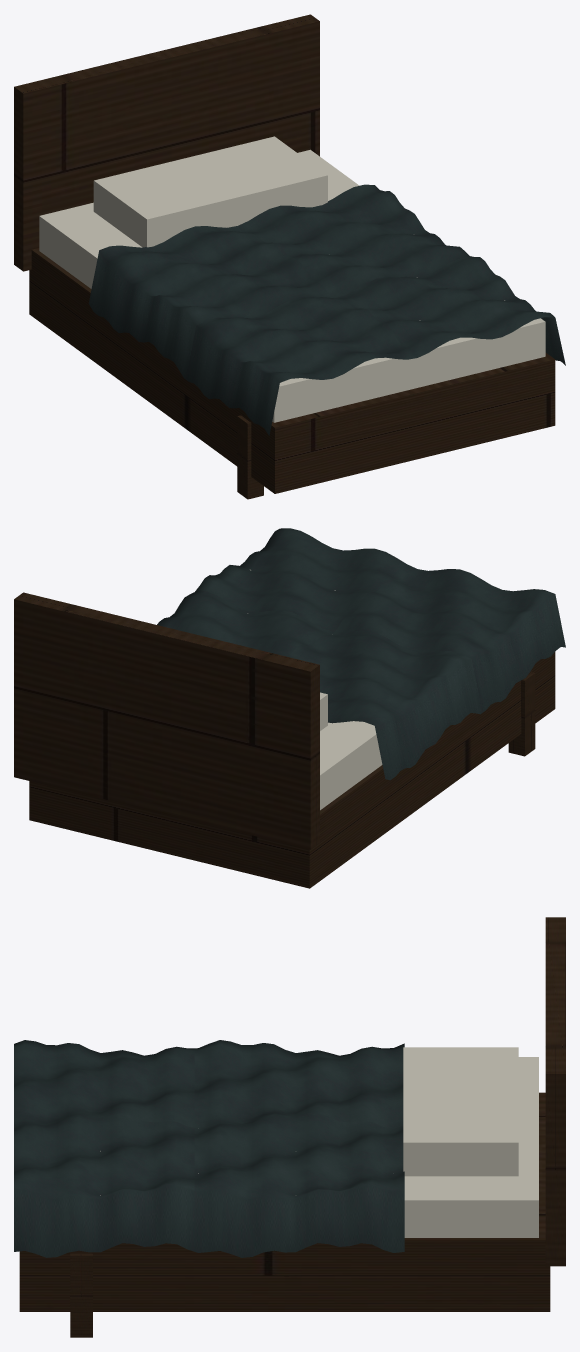
The model's file is bed.glb.
3 renders of one model, top to bottom at view 1: azimuth 30°, elevation 25°; view 2: azimuth 150°, elevation 25°; view 3: azimuth 270°, elevation 25°, orthographic. The views are drawn at different scales.
Parts seen in each view (by area): view 1: Rumpled blanket, Headboard, Bed frame, Pillow, Mattress, Bed leg; view 2: Headboard, Rumpled blanket, Bed frame, Mattress, Bed leg; view 3: Rumpled blanket, Bed frame, Pillow, Mattress, Headboard, Bed leg.001.
Part boxes in pixels (x1,y1,x2,y2): Rumpled blanket: (88,184,565,435); Headboard: (14,14,319,271); Bed frame: (29,248,555,493); Pillow: (93,136,327,247); Mattress: (39,149,545,422); Bed leg: (237,415,263,499); Headboard: (14,592,319,849); Rumpled blanket: (157,528,565,780); Bed frame: (29,652,555,888); Mattress: (247,569,382,810); Bed leg: (508,672,535,756); Rumpled blanket: (14,1040,404,1257); Bed frame: (19,1092,550,1311); Pillow: (403,1047,518,1176); Mattress: (100,1057,538,1237); Headboard: (545,917,565,1266); Bed leg.001: (70,1253,92,1337).
Size of the model in its own units: 1.64 by 1.3 by 2.44.
Materials: 3 (2 with a texture image).
